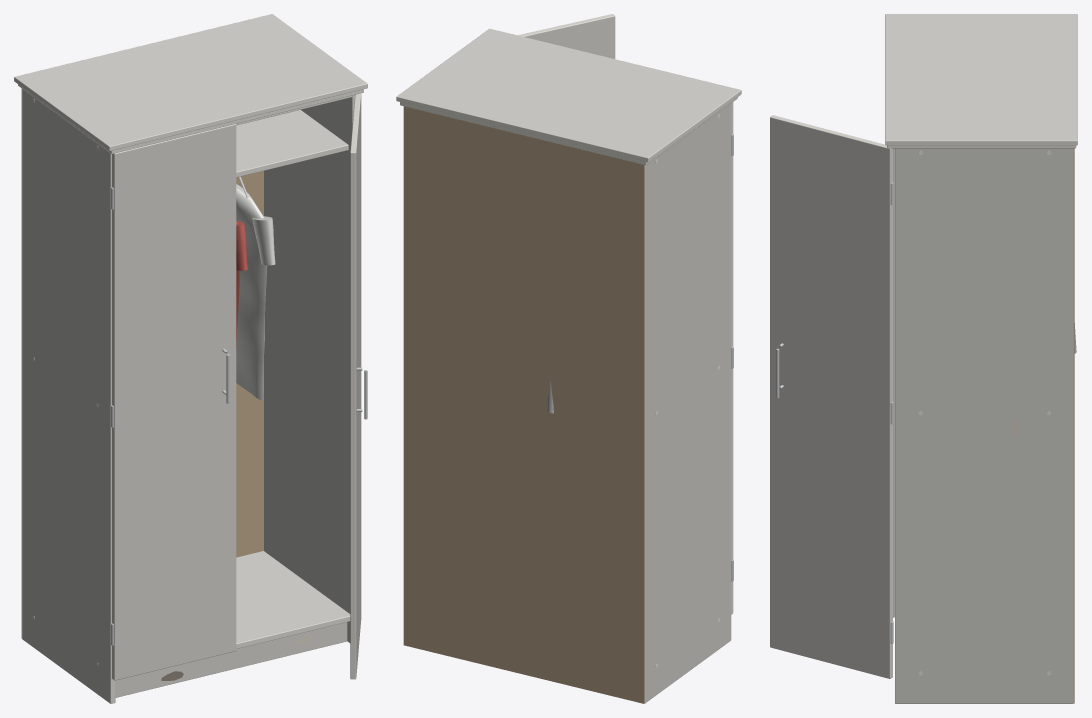
The model's file is furniture_wardrobe_open.fbx.
3 renders of one model, left to right at view 1: azimuth 30°, elevation 25°; view 2: azimuth 150°, elevation 25°; view 3: azimuth 270°, elevation 25°, orthographic. The views are drawn at different scales.
Parts seen in each view (by area): view 1: body, door_L, door_R; view 2: body, door_R, door_L; view 3: body, door_R, door_L.
Boxes of the visible parts, left/top/right/bottom form: body: left=14, top=14, right=367, bottom=703; door_L: left=111, top=124, right=236, bottom=680; door_R: left=350, top=93, right=367, bottom=679; body: left=396, top=28, right=741, bottom=703; door_R: left=518, top=14, right=615, bottom=58; door_L: left=731, top=102, right=733, bottom=614; body: left=885, top=14, right=1077, bottom=703; door_R: left=770, top=115, right=893, bottom=678; door_L: left=893, top=148, right=894, bottom=617.
Size of the model in its own units: 0.89 by 1.85 by 0.9114.
